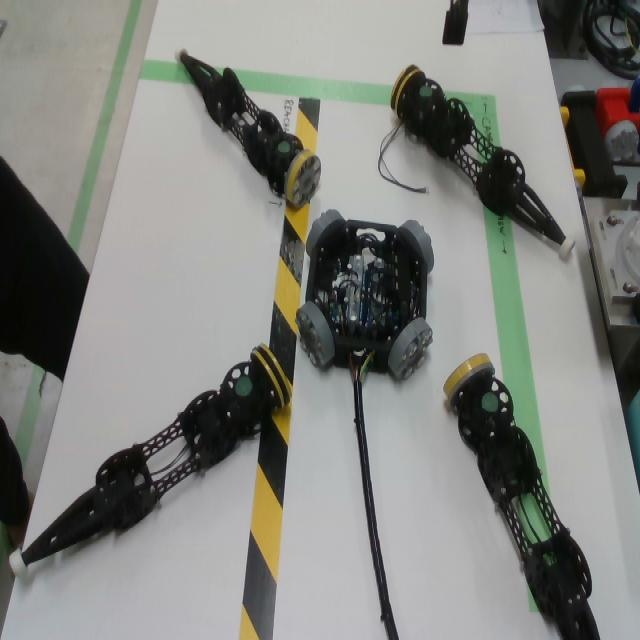body: (306, 220, 427, 372)
body_connector: (387, 317, 433, 381), (296, 301, 336, 367), (399, 220, 435, 273), (306, 209, 345, 256)
leg: (7, 343, 293, 576), (443, 353, 601, 640), (390, 65, 576, 260), (173, 45, 322, 209)
leg_connector: (251, 343, 294, 409), (443, 353, 496, 405), (285, 149, 321, 209), (390, 65, 425, 111)
leg_marker: (234, 375, 253, 397), (481, 392, 499, 413), (419, 85, 433, 97), (278, 141, 291, 153)
